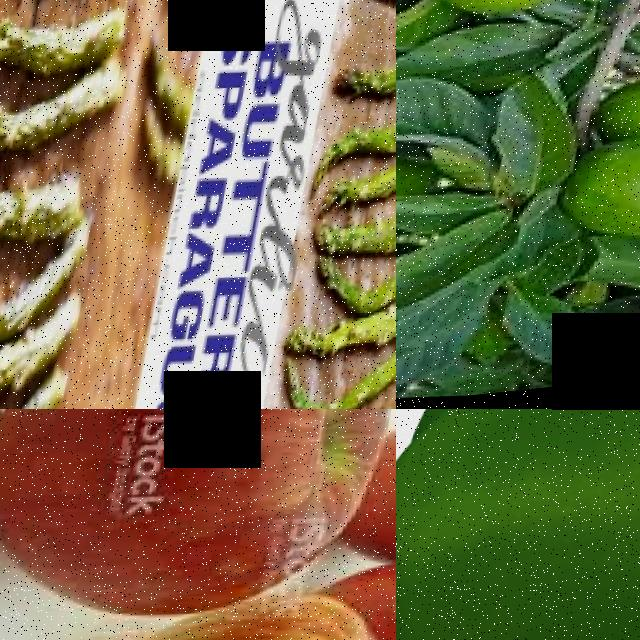apple: (0, 409, 396, 640), (53, 558, 396, 640), (349, 409, 396, 590)
asparagus: (0, 0, 133, 83), (0, 74, 117, 168), (0, 245, 89, 333), (288, 306, 396, 373), (0, 170, 84, 248), (337, 13, 396, 116), (323, 142, 396, 217), (286, 367, 396, 409), (315, 260, 396, 317), (0, 338, 64, 409), (323, 208, 396, 264), (329, 104, 396, 157)
avocado: (552, 146, 640, 265), (425, 0, 640, 41), (396, 156, 446, 287), (586, 76, 640, 178), (396, 57, 441, 170)
bell pepper: (396, 409, 640, 640)
